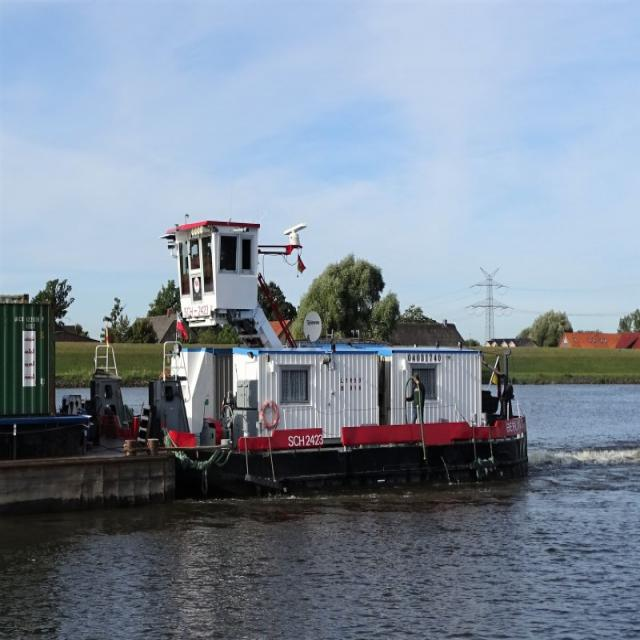tugboat: (88, 212, 537, 509)
